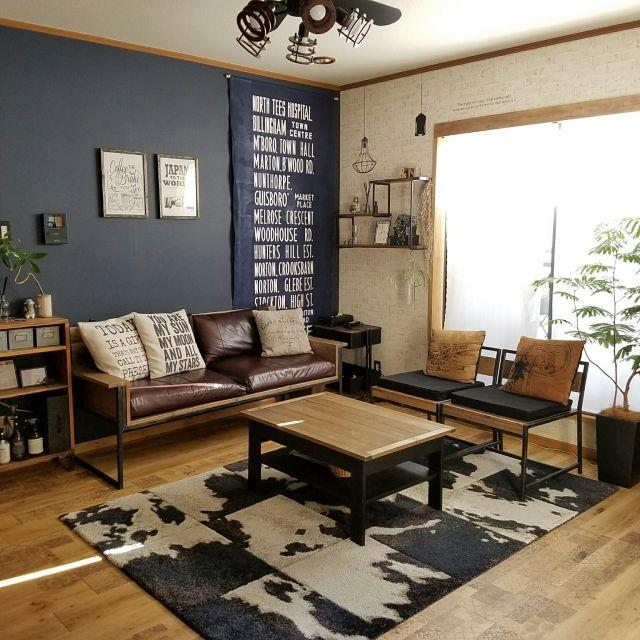vintage chair: (465, 334, 588, 488)
vintage desk: (237, 391, 456, 542)
vintage sofa: (65, 293, 350, 496)
